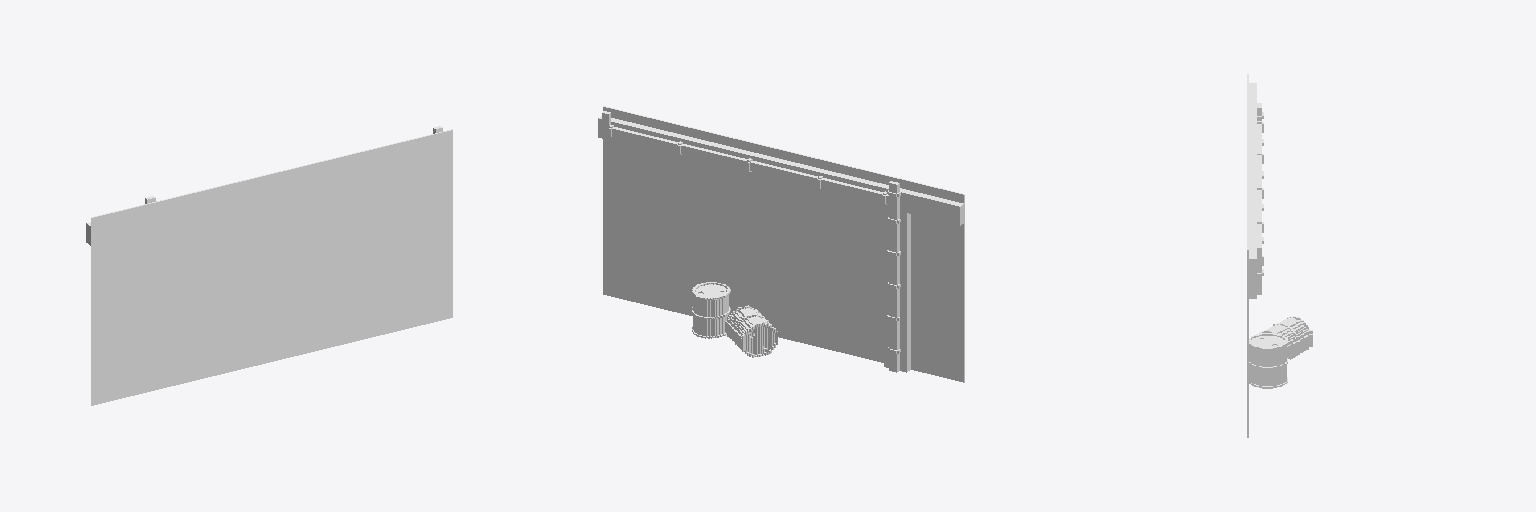
Rendered from stage1_wall_back.obj.
3 renders of one model, left to right at view 1: azimuth 30°, elevation 25°; view 2: azimuth 150°, elevation 25°; view 3: azimuth 270°, elevation 25°, orthographic.
Visible parts, largest first — view 1: object 1; view 2: object 1; view 3: object 1.
Boxes of the visible parts, x1=… form: object 1: x1=86, y1=126, x2=452, y2=405; object 1: x1=598, y1=106, x2=964, y2=382; object 1: x1=1247, y1=74, x2=1312, y2=437.
Size of the model in its own units: 25.6 by 12.7 by 4.